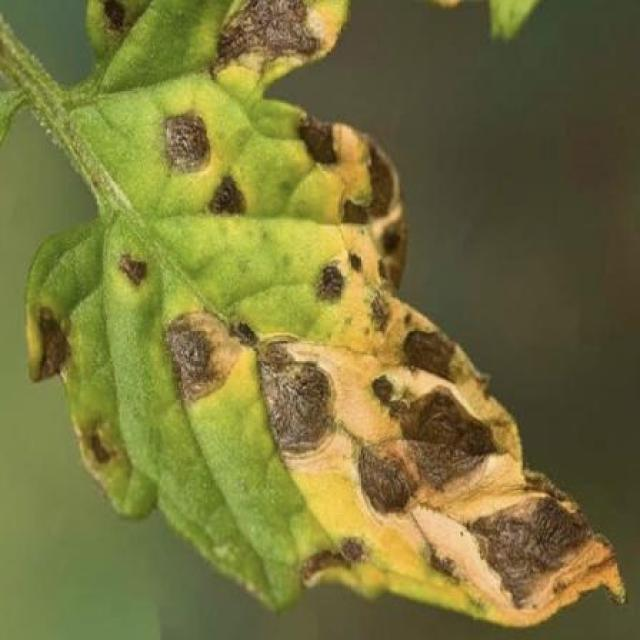Early Blight: (15, 0, 626, 630)
